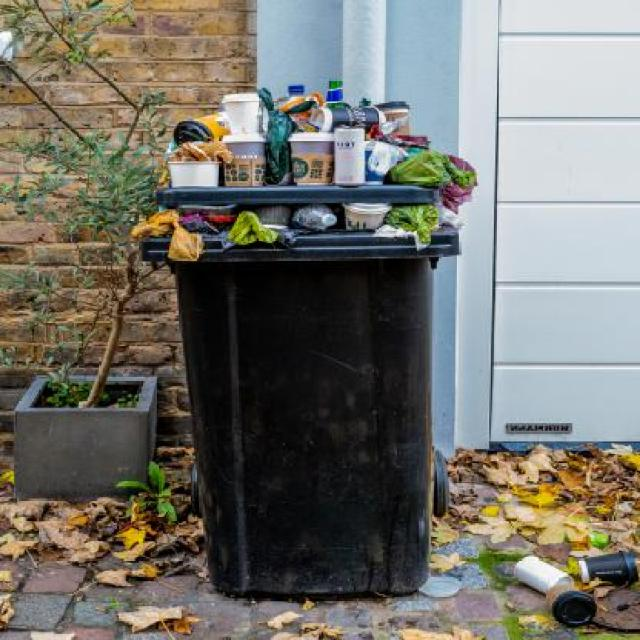garbage container: (124, 218, 473, 614)
